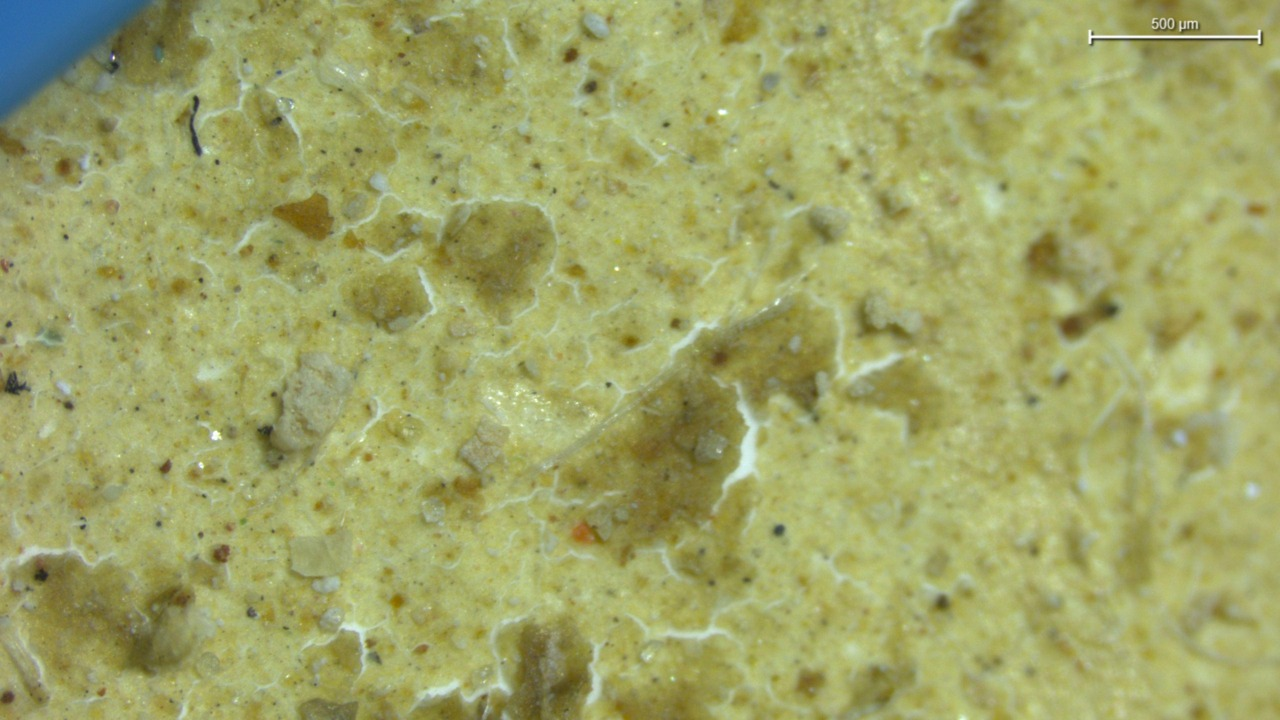microplastic_fragment: (270, 353, 352, 454), (583, 13, 609, 38)
